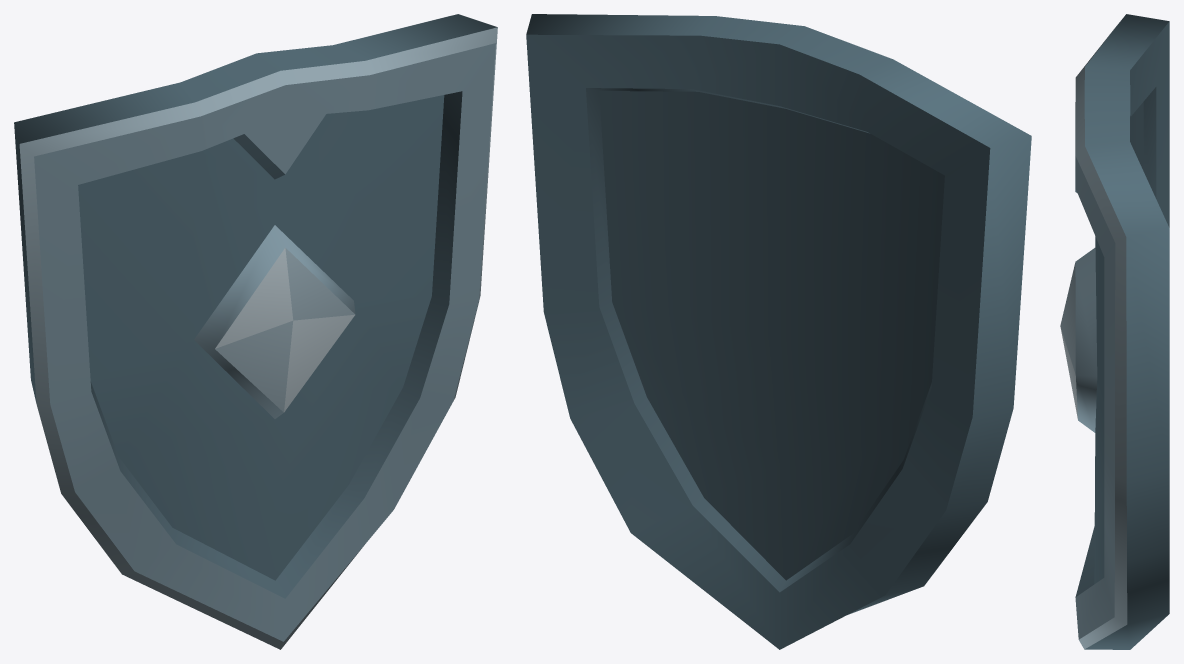
File: wp cap5b.fbx
3 renders of one model, left to right at view 1: azimuth 30°, elevation 25°; view 2: azimuth 150°, elevation 25°; view 3: azimuth 270°, elevation 25°, orthographic. The views are drawn at different scales.
Parts seen in each view (by area): view 1: wp_cap5b; view 2: wp_cap5b; view 3: wp_cap5b.
Part boxes in pixels (box(x1,y1,x2,y2)): wp_cap5b: box(14, 14, 497, 649); wp_cap5b: box(526, 14, 1031, 649); wp_cap5b: box(1060, 14, 1169, 649).
Size of the model in its own units: 94.4 by 109 by 19.55.
1 material, 1 textured.
